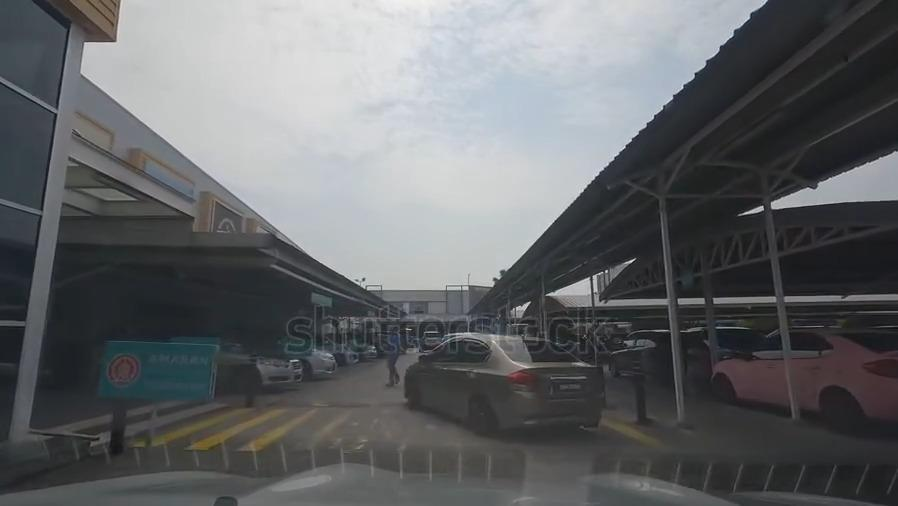car: (402, 335, 607, 423), (711, 334, 898, 407), (219, 339, 301, 390), (610, 331, 703, 374), (297, 342, 331, 379), (321, 334, 353, 365), (354, 343, 375, 359), (419, 329, 438, 345)
pedestrian: (125, 415, 694, 456)
person: (385, 324, 401, 383)
speedbump: (267, 396, 611, 410)
wheel: (469, 392, 493, 435), (234, 363, 259, 391), (402, 379, 419, 405)
